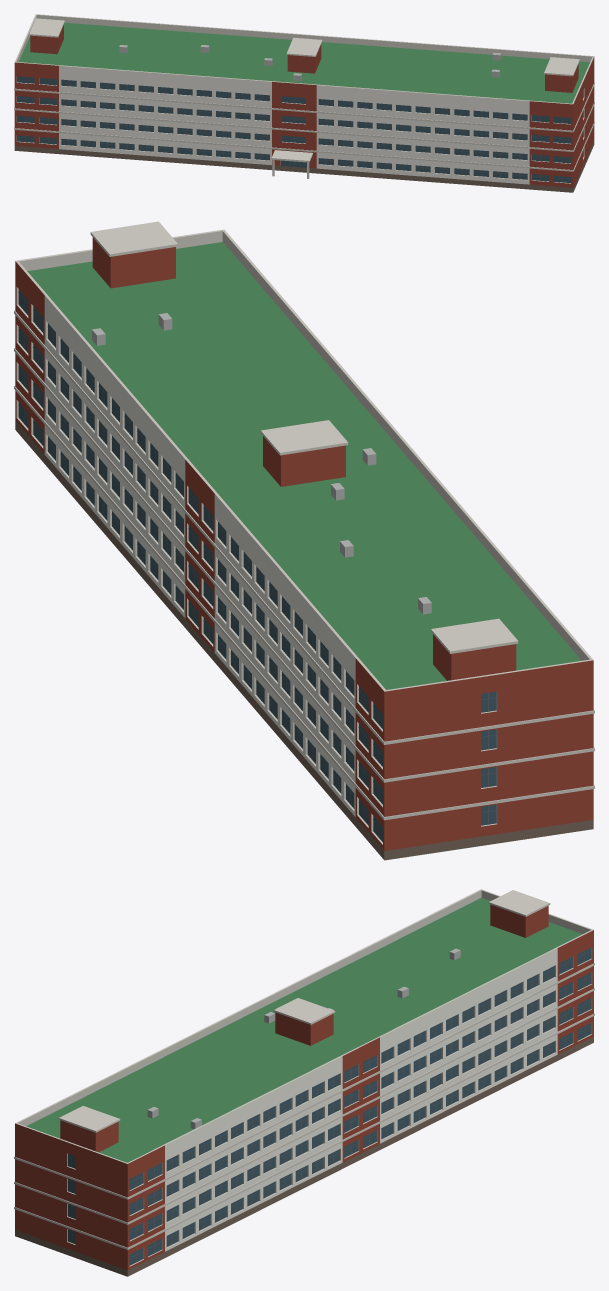
The picture shows the model from 3 angles, top to bottom: view 1: azimuth 30°, elevation 25°; view 2: azimuth 150°, elevation 25°; view 3: azimuth 270°, elevation 25°; orthographic projection. The views are drawn at different scales.
Visible parts, largest first — view 1: wing1__wall-plaster, wing1__roof, wing1__trim-concrete, wing1__glass, wing1__brick, wing1__base-stone, wing1__frame, wing1__canopy-concrete, wing1__equipment; view 2: wing1__roof, wing1__brick, wing1__trim-concrete, wing1__wall-plaster, wing1__glass, wing1__base-stone, wing1__frame, wing1__equipment; view 3: wing1__roof, wing1__wall-plaster, wing1__brick, wing1__trim-concrete, wing1__glass, wing1__base-stone, wing1__frame, wing1__equipment.
Part boxes in pixels (bbox=[...]): wing1__wall-plaster: bbox=[59, 66, 529, 184]; wing1__roof: bbox=[19, 22, 589, 103]; wing1__trim-concrete: bbox=[14, 14, 594, 183]; wing1__glass: bbox=[17, 76, 583, 182]; wing1__brick: bbox=[14, 25, 594, 187]; wing1__base-stone: bbox=[14, 140, 594, 192]; wing1__frame: bbox=[17, 77, 583, 182]; wing1__canopy-concrete: bbox=[271, 150, 312, 178]; wing1__equipment: bbox=[119, 45, 501, 81]; wing1__roof: bbox=[27, 242, 581, 689]; wing1__brick: bbox=[15, 237, 593, 850]; wing1__trim-concrete: bbox=[14, 221, 594, 844]; wing1__wall-plaster: bbox=[44, 295, 355, 816]; wing1__glass: bbox=[18, 289, 496, 841]; wing1__base-stone: bbox=[15, 421, 593, 860]; wing1__frame: bbox=[18, 292, 496, 837]; wing1__equipment: bbox=[92, 313, 431, 614]; wing1__roof: bbox=[26, 897, 582, 1162]; wing1__wall-plaster: bbox=[165, 948, 557, 1251]; wing1__brick: bbox=[15, 904, 593, 1270]; wing1__trim-concrete: bbox=[14, 889, 594, 1266]; wing1__glass: bbox=[67, 947, 591, 1265]; wing1__base-stone: bbox=[15, 1036, 593, 1276]; wing1__frame: bbox=[67, 951, 590, 1262]; wing1__equipment: bbox=[147, 948, 460, 1129].
Bounding box in the file's own units: 84.64 × 18.45 × 75.39.
